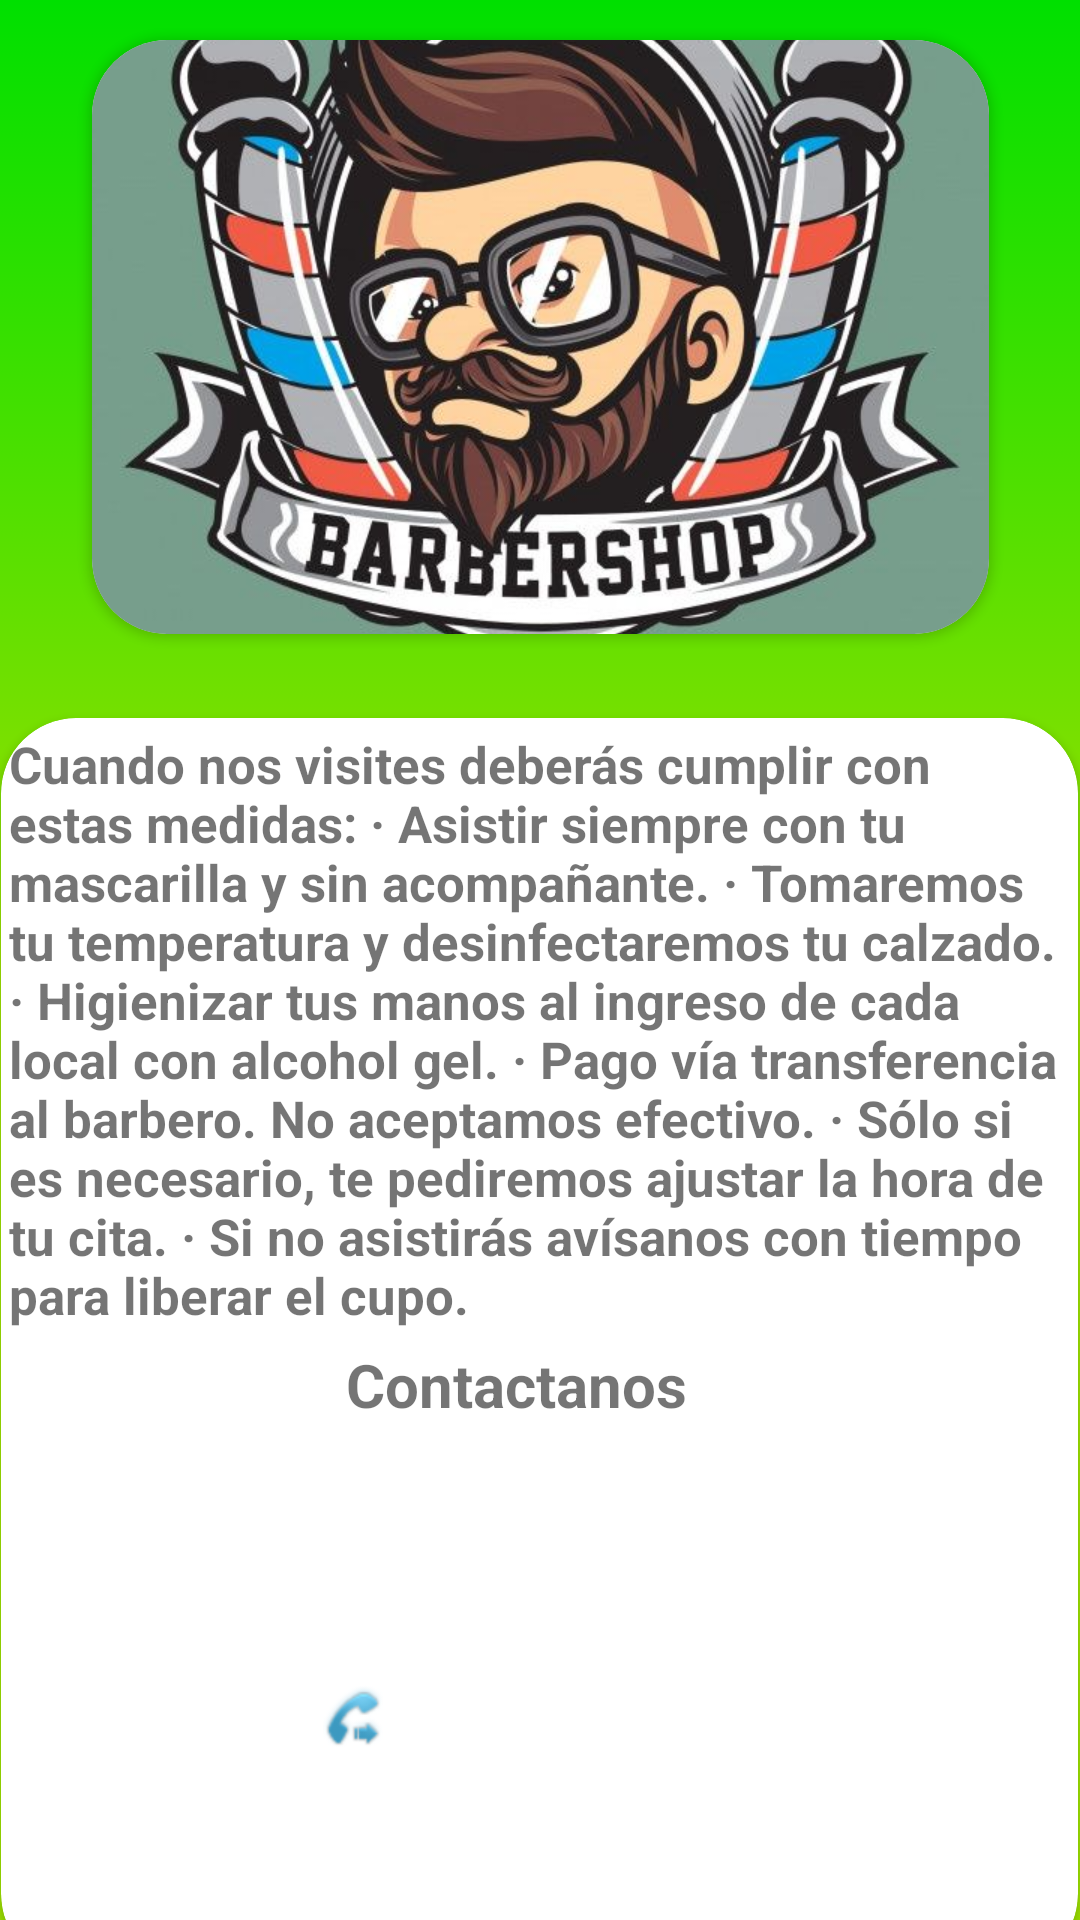

Screen size 1080x1920. Icon name, then its box in pixels as {"left": x1, "top": y1, "right": x2, "bottom": y2}:
phone call forward: {"left": 327, "top": 1690, "right": 379, "bottom": 1745}
